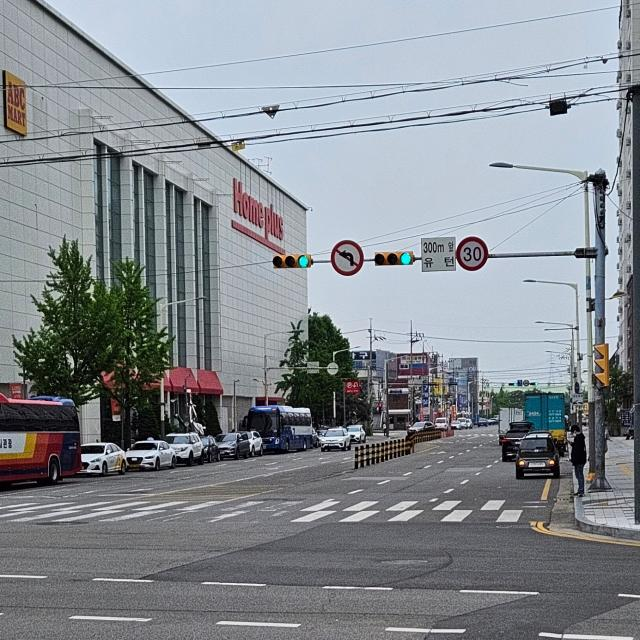Green Light: (297, 254, 310, 268), (399, 252, 412, 264)
